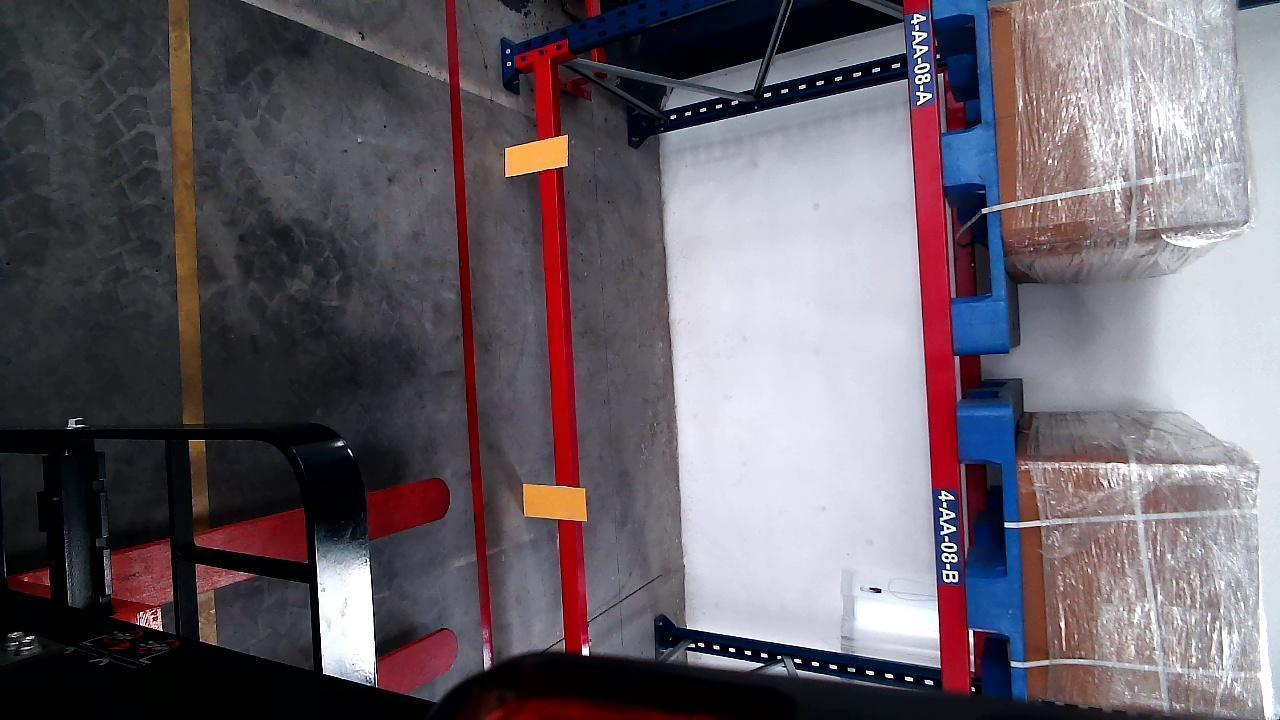red_line: (443, 0, 499, 667)
yellow_line: (170, 0, 204, 441)
